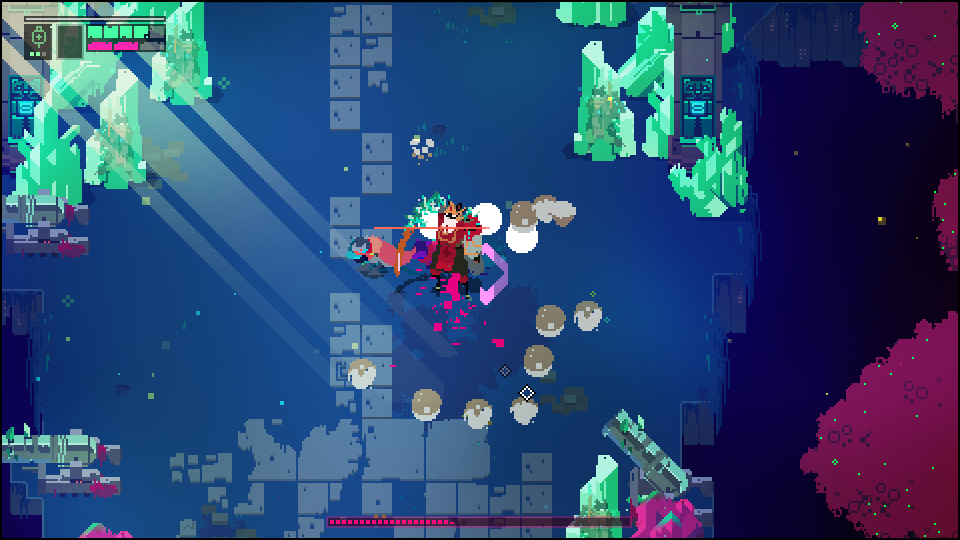hanged_man: (398, 189, 481, 295)
player: (342, 233, 417, 273)
